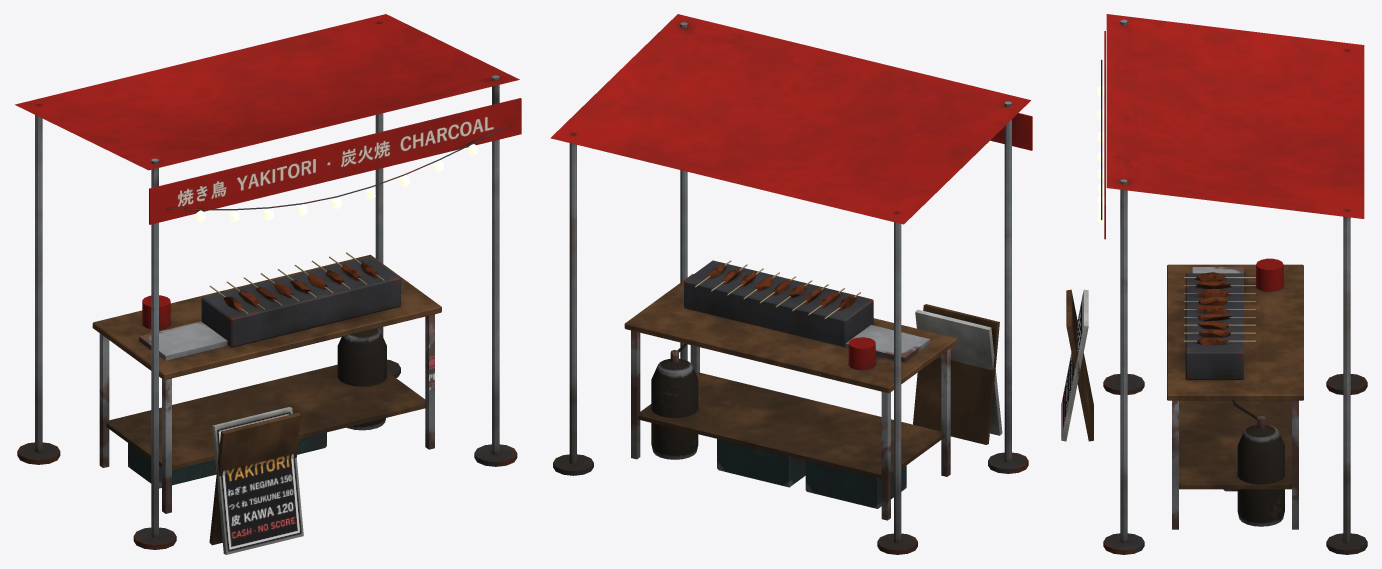
File: skewer_stall.glb
The picture shows the model from 3 angles, left to right: view 1: azimuth 30°, elevation 25°; view 2: azimuth 150°, elevation 25°; view 3: azimuth 270°, elevation 25°; orthographic projection. The views are drawn at different scales.
Parts seen in each view (by area): view 1: skewer_stall; view 2: skewer_stall; view 3: skewer_stall.
Boxes of the visible parts, box(x1,y1,x2,y2) form: skewer_stall: box(15, 14, 521, 554); skewer_stall: box(550, 14, 1032, 554); skewer_stall: box(1061, 14, 1367, 554).
Size of what is drawn, in the model's own units: 2.44 by 2.35 by 1.78.
Materials: 1 (1 with a texture image).
